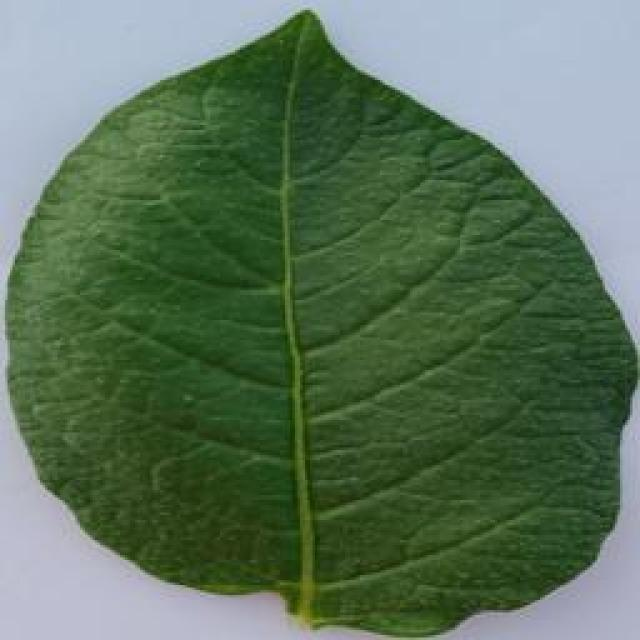Potato_Healthy: (6, 4, 626, 630)
